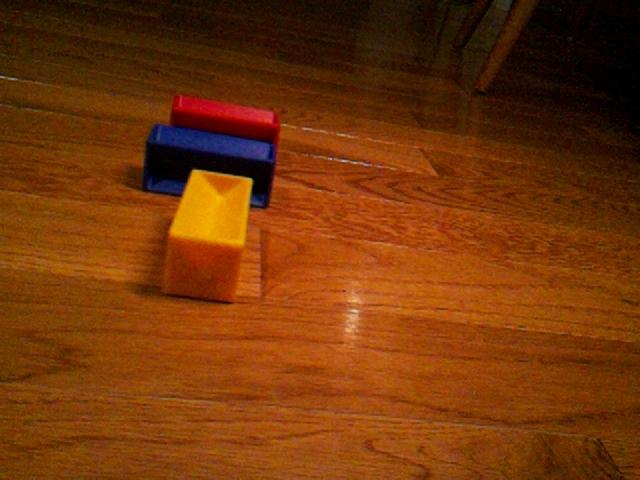blue: (142, 121, 277, 209)
red: (170, 93, 282, 144)
yellow: (160, 168, 255, 304)
